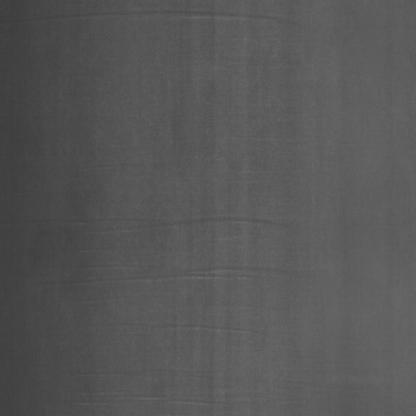waist_folding: (89, 53, 356, 396)
